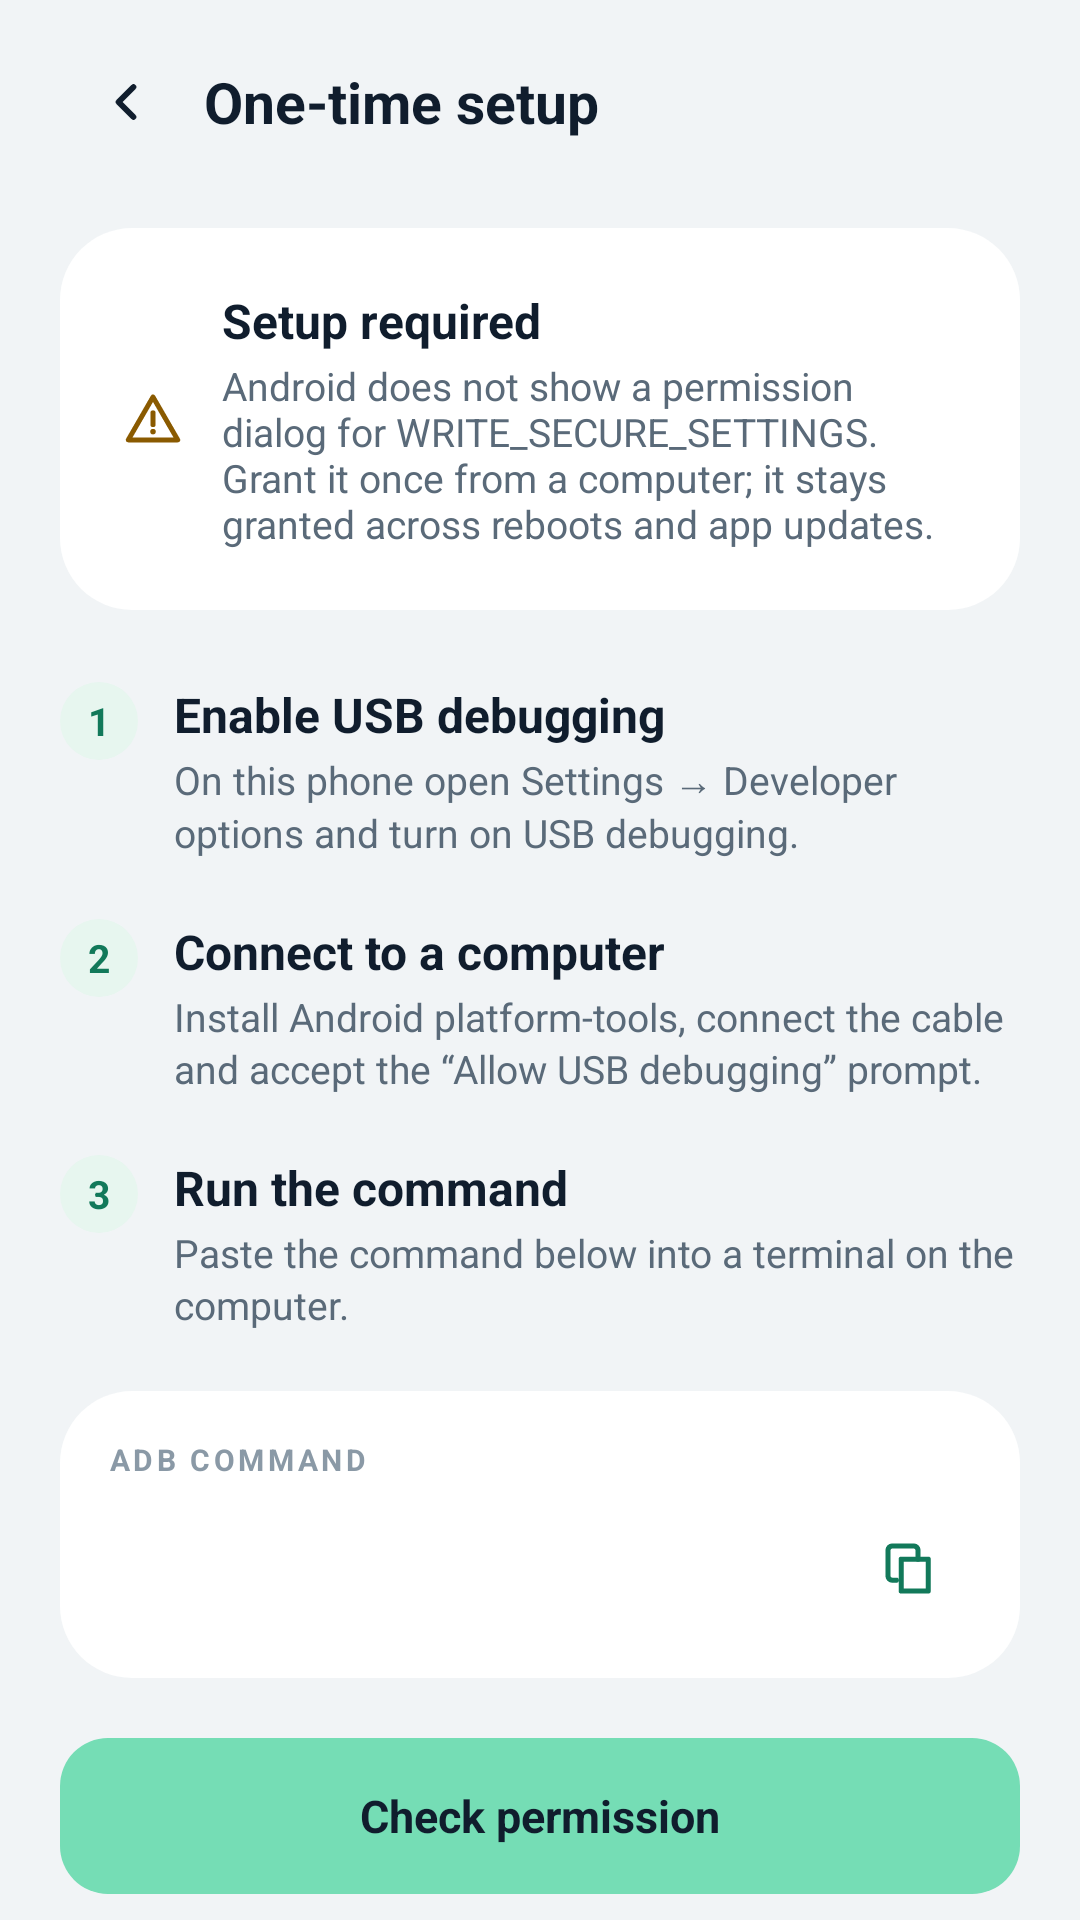

Screen size 1080w x 1920h. Icon name, then its box in pixels as (x1, y1, x2, y2):
Copy ADB command: (885, 1543, 931, 1594)
warn: (125, 394, 181, 443)
